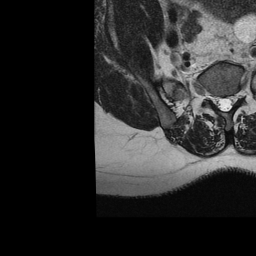CCS_stenosis: (221, 88, 228, 118)
LFS_normal: (234, 82, 242, 107)
LLS_normal: (228, 87, 234, 115)
RFS_normal: (207, 83, 213, 111)
RLS_normal: (213, 87, 221, 115)
